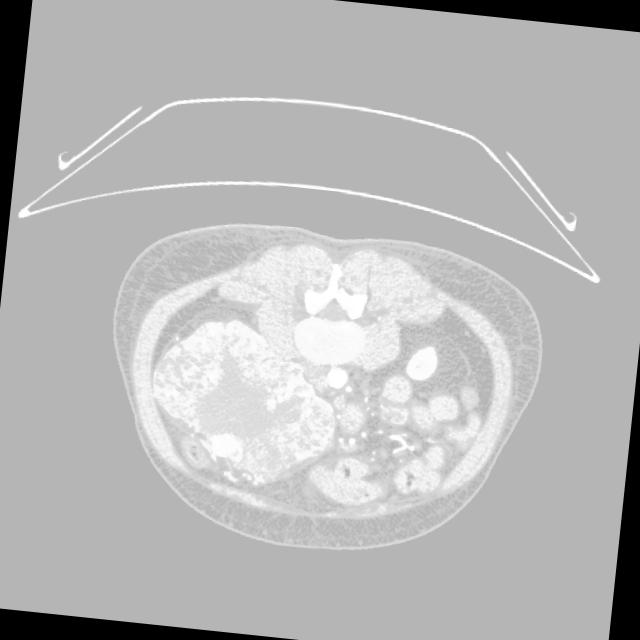TUMOR: (152, 331, 493, 513)
